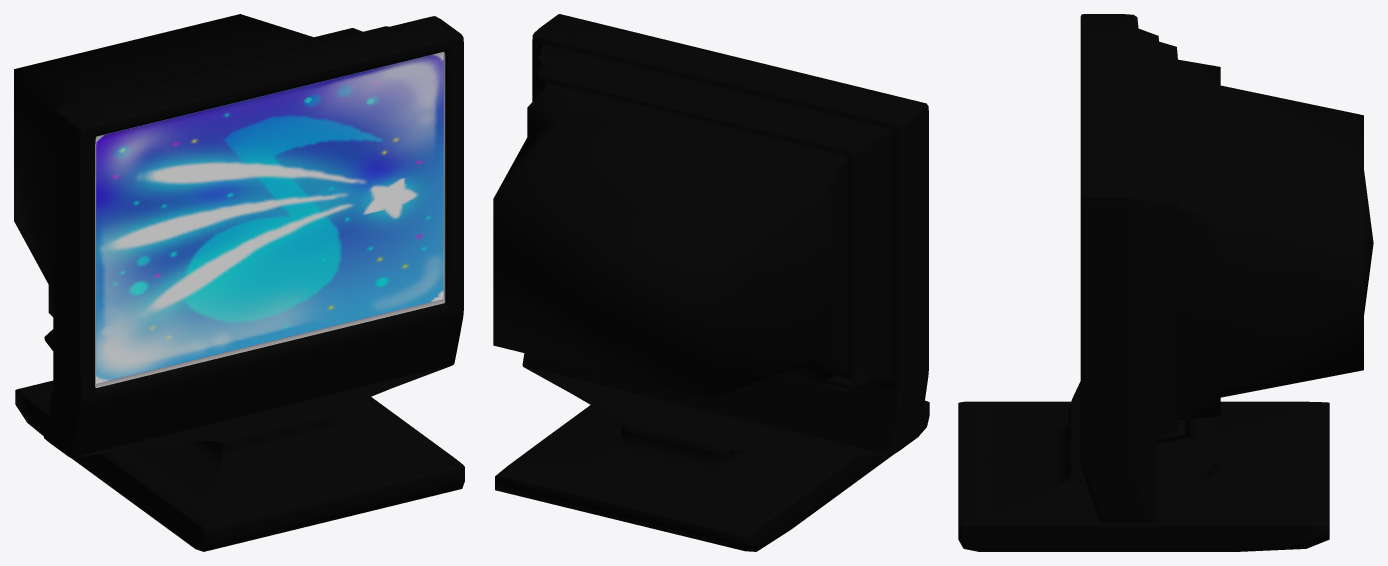
Rendered from CRT.fbx.
3 renders of one model, left to right at view 1: azimuth 30°, elevation 25°; view 2: azimuth 150°, elevation 25°; view 3: azimuth 270°, elevation 25°, orthographic. The views are drawn at different scales.
Parts seen in each view (by area): view 1: pCube1; view 2: pCube1; view 3: pCube1.
Part boxes in pixels (<box>): pCube1: <box>14,14,464,551</box>; pCube1: <box>493,14,929,551</box>; pCube1: <box>958,14,1373,551</box>.
Bounding box in the file's own units: 9.08 × 8.96 × 8.72.
3 materials, 1 textured.
